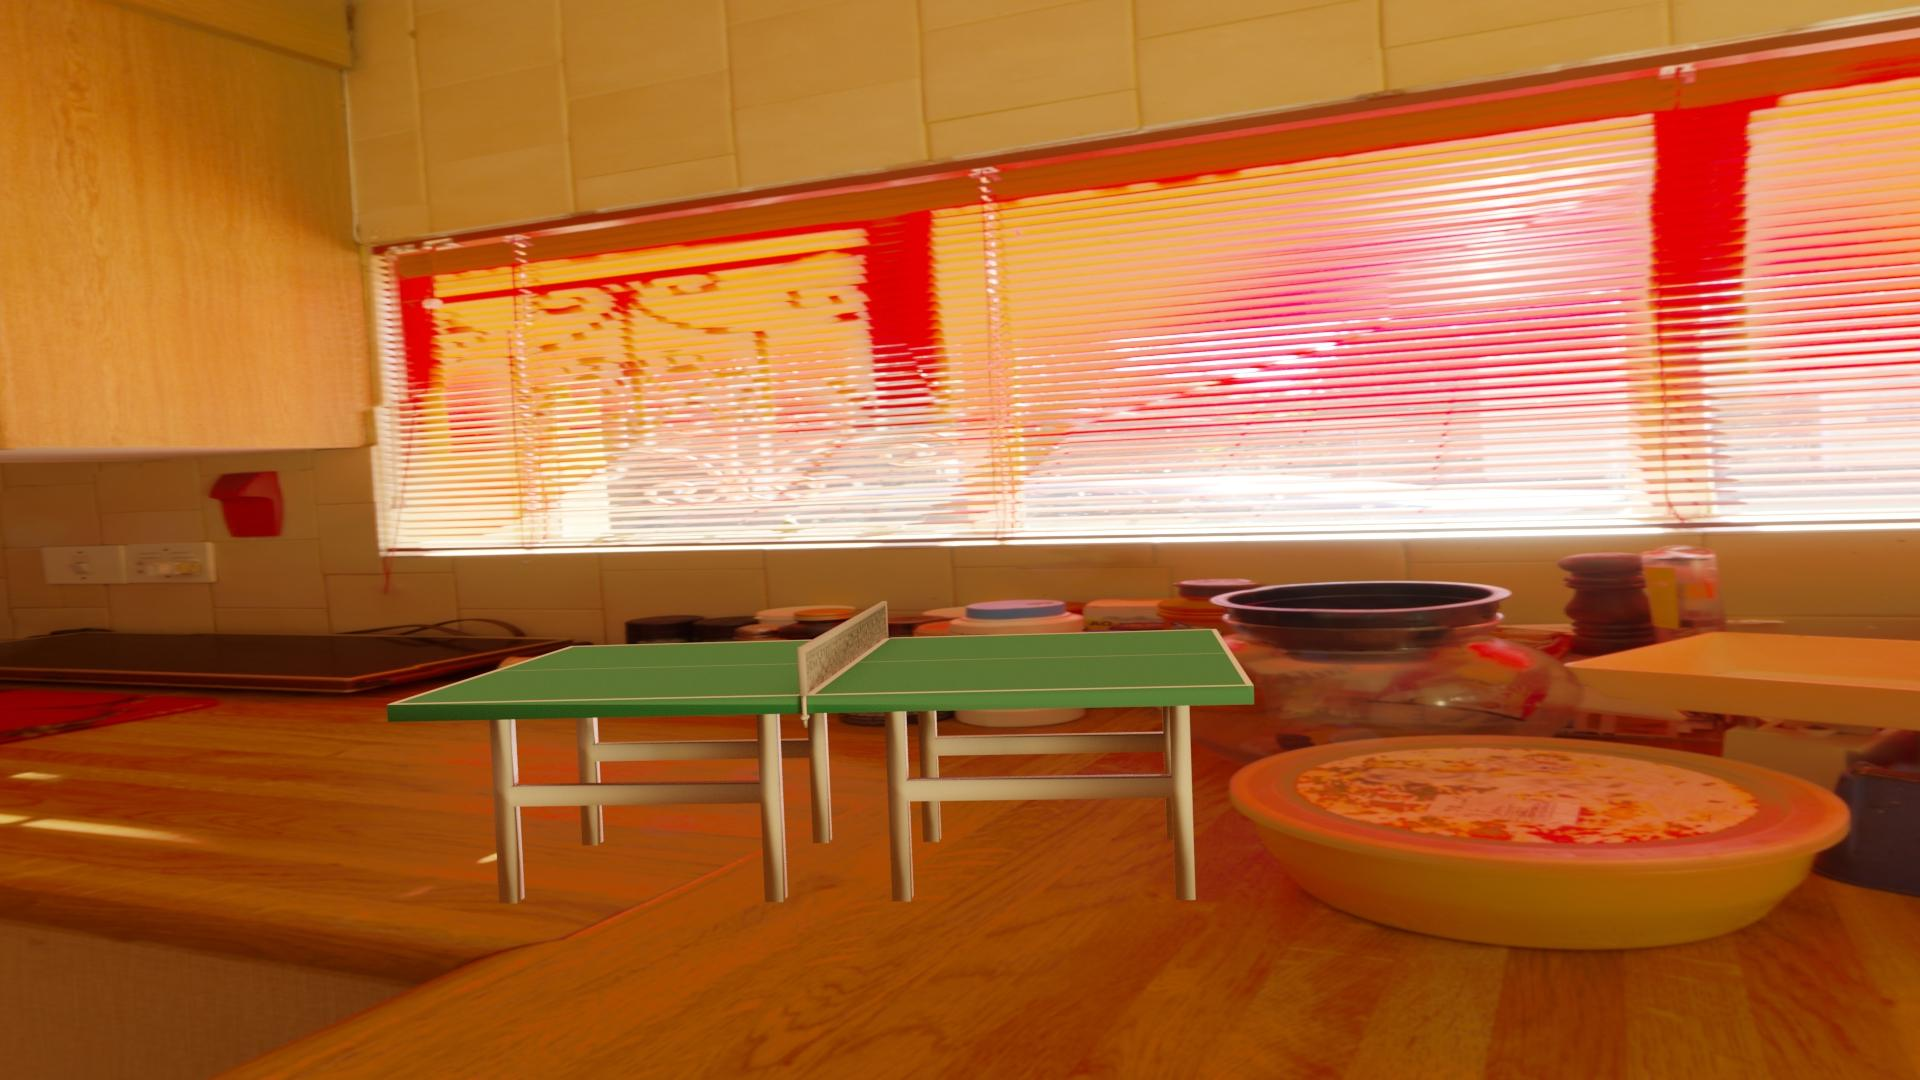table: (396, 630, 1246, 704)
